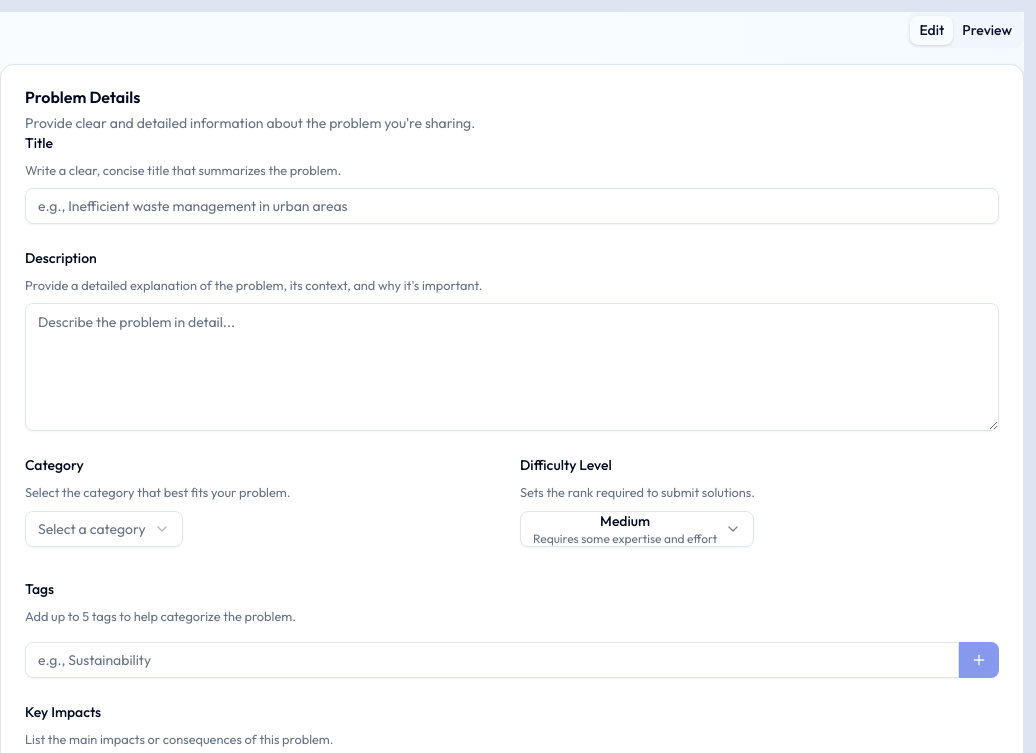
it: ProblemForm Component › handles adding and removing tags
Type "Climate" into the field with placeholder "e.g., Sustainability" at (492, 660), box 25,642 -> 959,678
Then press Enter
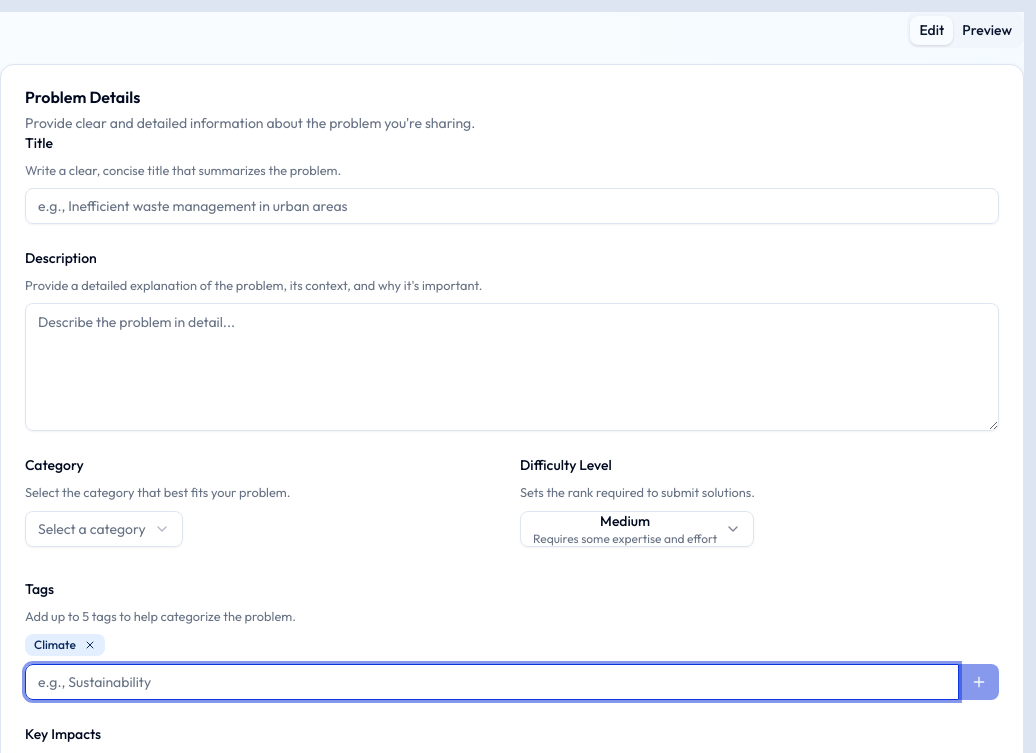
Expected: the field with placeholder "e.g., Sustainability" is empty, 25,664 -> 959,700
Expected: the text "Climate" is shown, 25,634 -> 105,656
Click the button without text next to "Climate" at (90, 645), box 84,639 -> 96,651
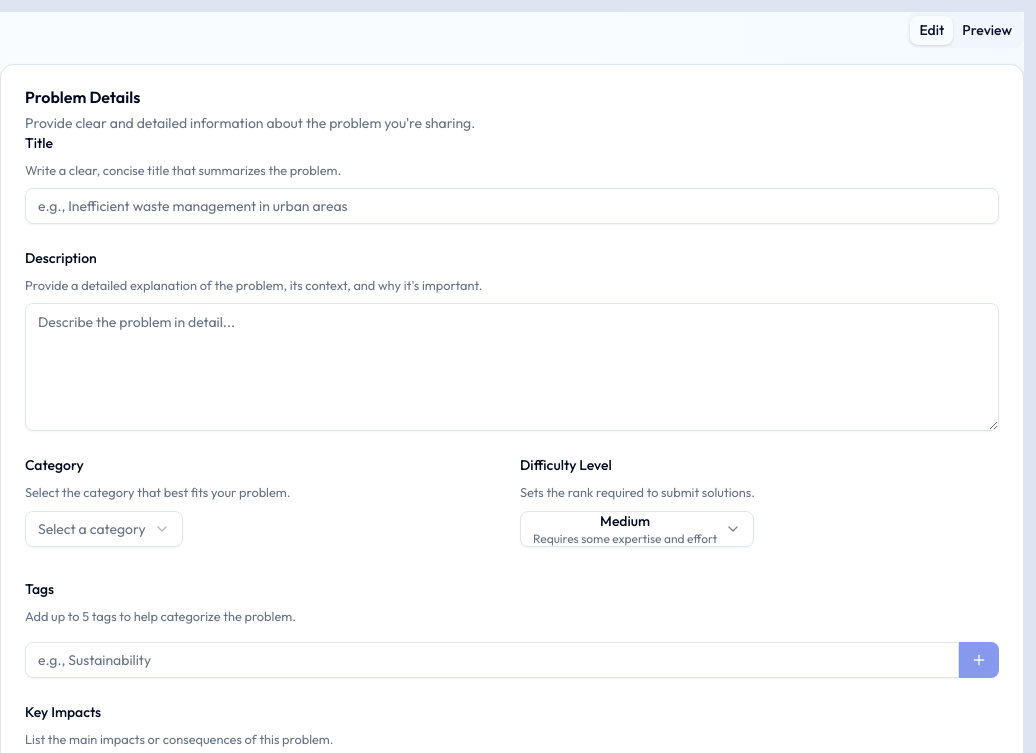
Expected: the text "Climate" is gone
